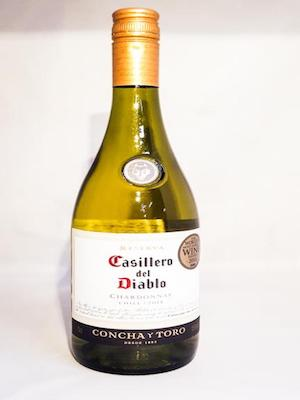casillero del diablo chardonnay: (64, 22, 210, 383)
